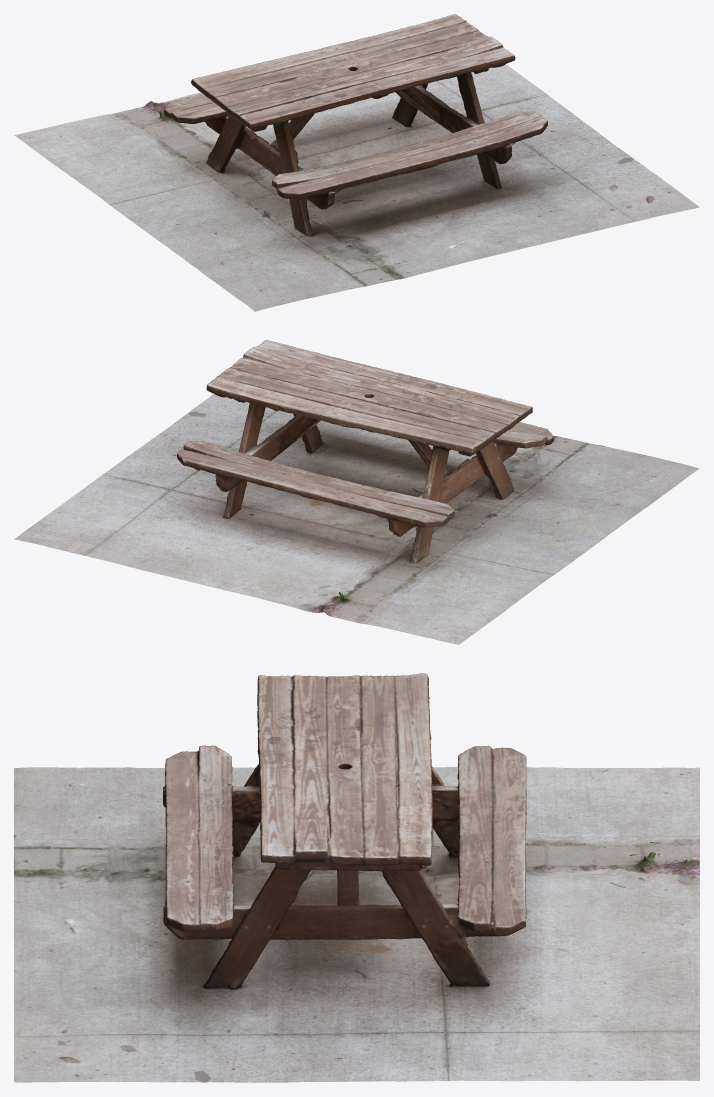
File: bench.glb
The picture shows the model from 3 angles, top to bottom: view 1: azimuth 30°, elevation 25°; view 2: azimuth 150°, elevation 25°; view 3: azimuth 270°, elevation 25°; orthographic projection. The views are drawn at different scales.
Parts seen in each view (by area): view 1: Object_3, Object_4, Object_5; view 2: Object_3, Object_4, Object_5; view 3: Object_3, Object_4, Object_5.
Boxes of the visible parts, x1,y1,x2,y2 form: Object_3: (14, 44, 699, 311); Object_4: (126, 14, 679, 298); Object_5: (33, 20, 531, 197); Object_3: (14, 369, 699, 644); Object_4: (134, 340, 672, 603); Object_5: (45, 343, 517, 640); Object_3: (14, 673, 699, 1082); Object_4: (14, 679, 623, 1081); Object_5: (163, 771, 698, 1080).
Bounding box in the file's own units: 53.12 × 13.25 × 49.87.
Materials: 1 (1 with a texture image).
